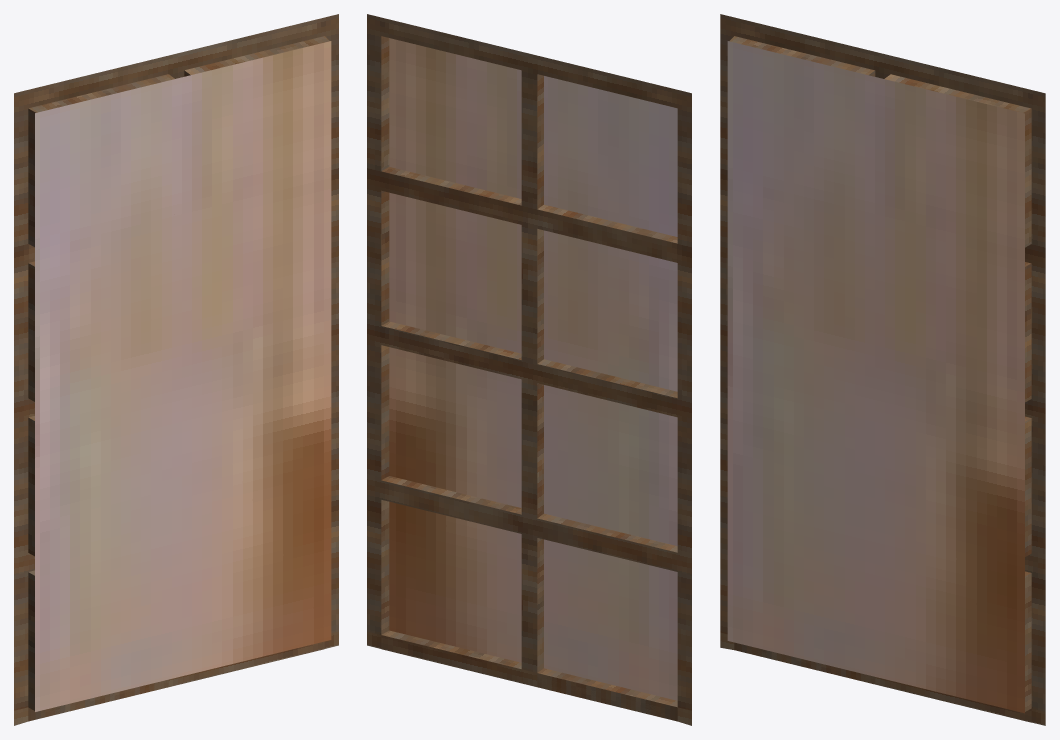
The model's file is GJ_Wall_Window_Frame_02.fbx.
The picture shows the model from 3 angles, left to right: view 1: azimuth 30°, elevation 25°; view 2: azimuth 150°, elevation 25°; view 3: azimuth 330°, elevation 25°; orthographic projection.
Visible parts, largest first — view 1: GJ_Wall_Window_Frame_02; view 2: GJ_Wall_Window_Frame_02; view 3: GJ_Wall_Window_Frame_02.
Boxes of the visible parts, x1,y1,x2,y2 form: GJ_Wall_Window_Frame_02: [14, 14, 338, 725]; GJ_Wall_Window_Frame_02: [367, 14, 691, 725]; GJ_Wall_Window_Frame_02: [720, 14, 1045, 725].
Size of the model in its own units: 87.5 by 163 by 3.1.
